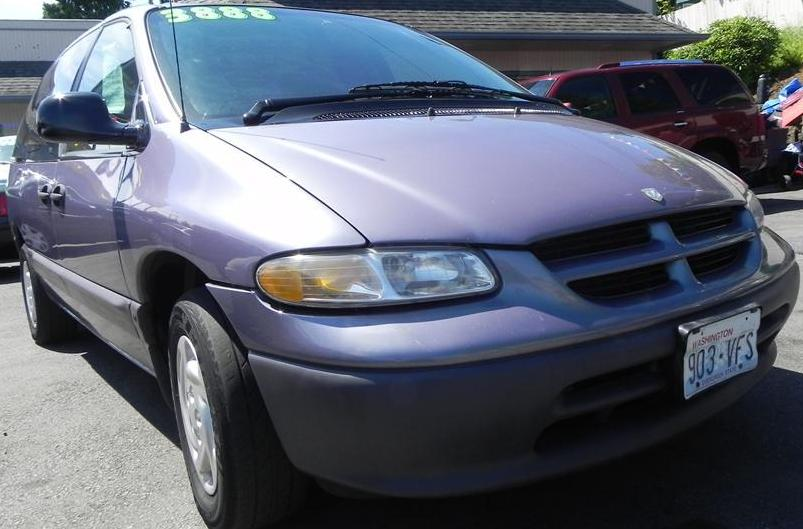front_view: (242, 164, 789, 433)
headlight: (255, 214, 516, 327)
side_glass: (15, 16, 182, 157)
